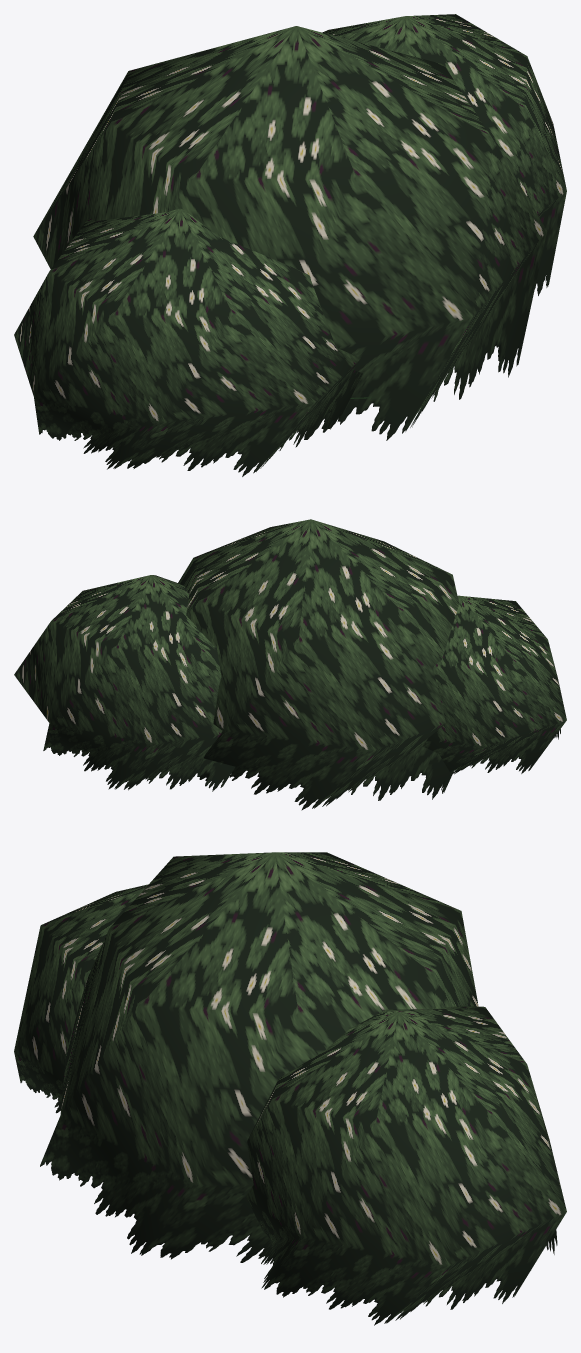
Rendered from Bramble.fbx.
3 renders of one model, top to bottom at view 1: azimuth 30°, elevation 25°; view 2: azimuth 150°, elevation 25°; view 3: azimuth 270°, elevation 25°, orthographic. The views are drawn at different scales.
Visible parts, largest first — view 1: Bramble; view 2: Bramble; view 3: Bramble.
Boxes of the visible parts, <box> form: Bramble: <box>14,14,566,476</box>; Bramble: <box>14,519,566,810</box>; Bramble: <box>14,852,566,1325</box>.
Bounding box in the file's own units: 1.55 × 0.799 × 1.12.
